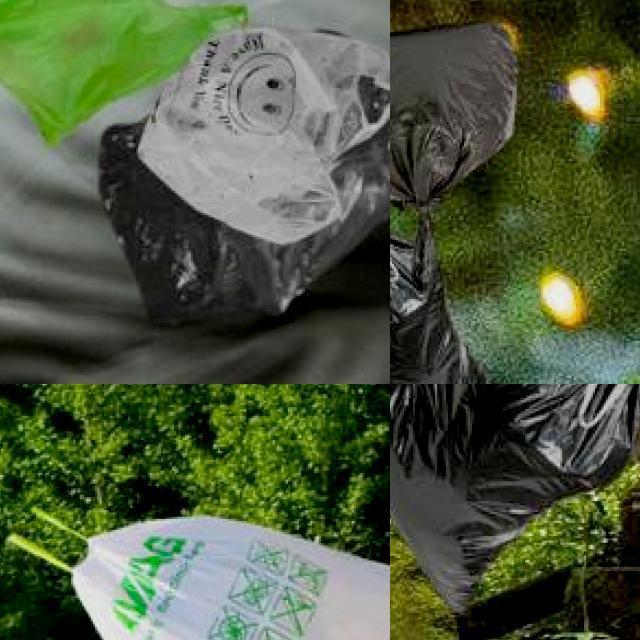waste: (108, 105, 390, 320), (150, 21, 390, 249), (390, 384, 640, 598), (78, 511, 390, 640), (0, 0, 248, 126), (390, 21, 518, 202), (390, 219, 511, 384)
